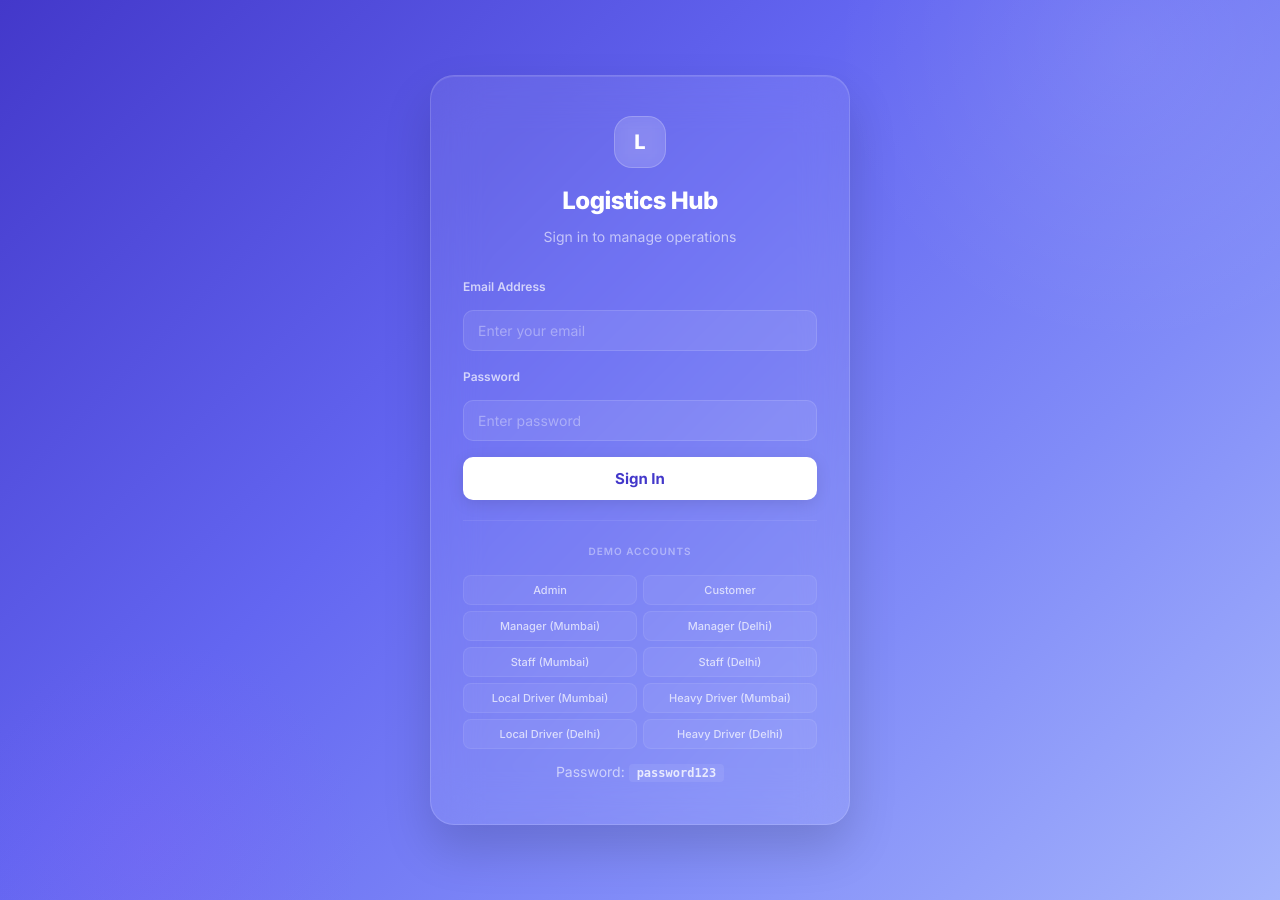
Test: LoginPage › demo account button fills email and password
The width and height of the screenshot is (1280, 900).
Click the button "Admin" at coordinates (550, 590), box [463,575,637,605]
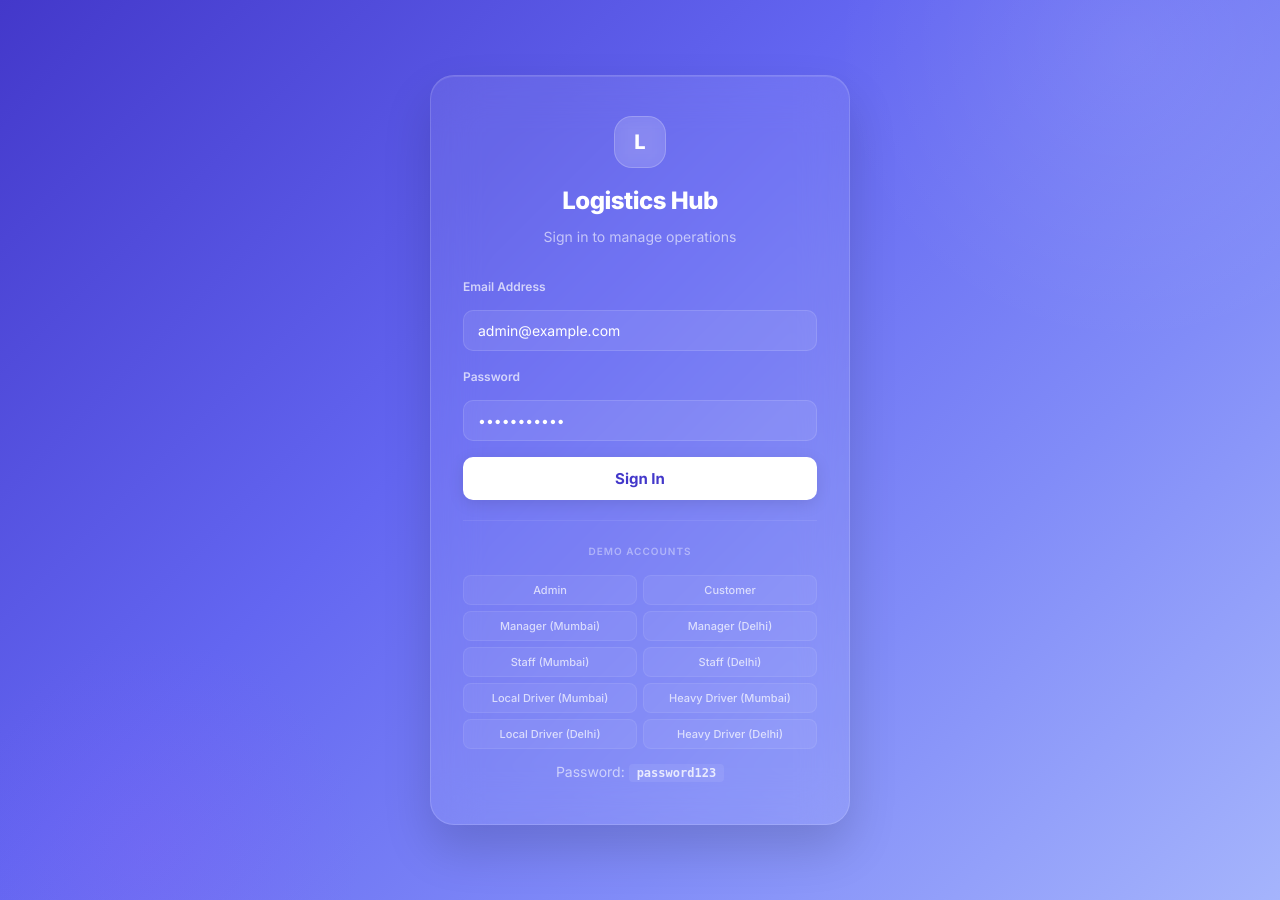
Check: the field with placeholder "Enter your email" holds "admin@example.com", box [463,310,817,351]
Check: the password field with placeholder "Enter password" holds "password123", box [463,400,817,441]
